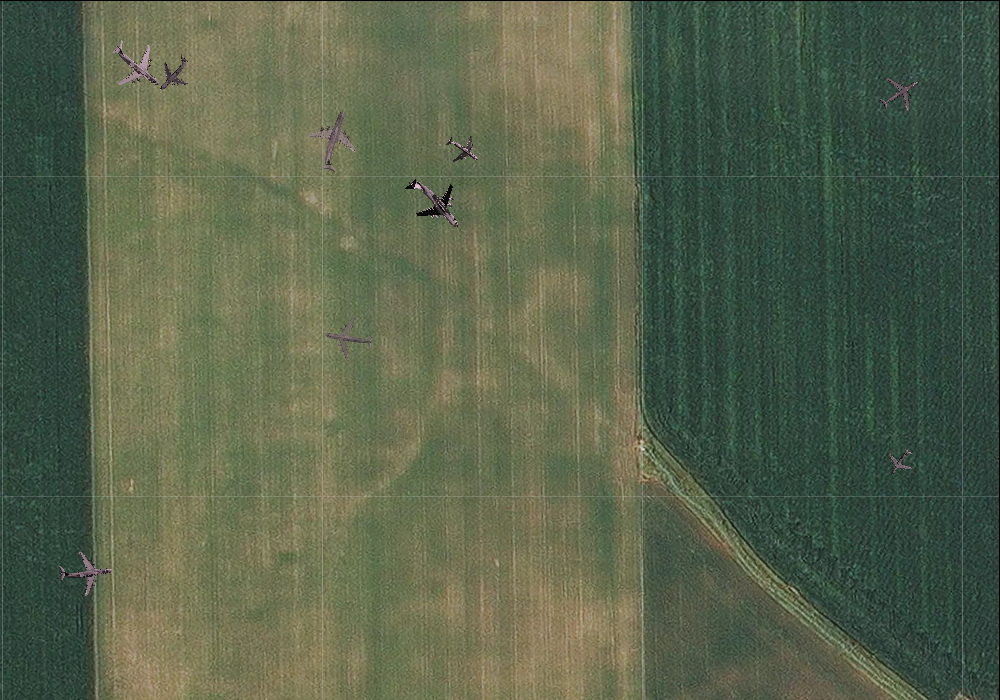plane: (390, 160, 477, 247), (96, 25, 176, 104), (297, 102, 372, 179), (55, 544, 114, 600), (871, 65, 928, 121), (145, 45, 200, 101), (320, 312, 376, 364), (438, 125, 487, 174), (880, 442, 921, 483)
